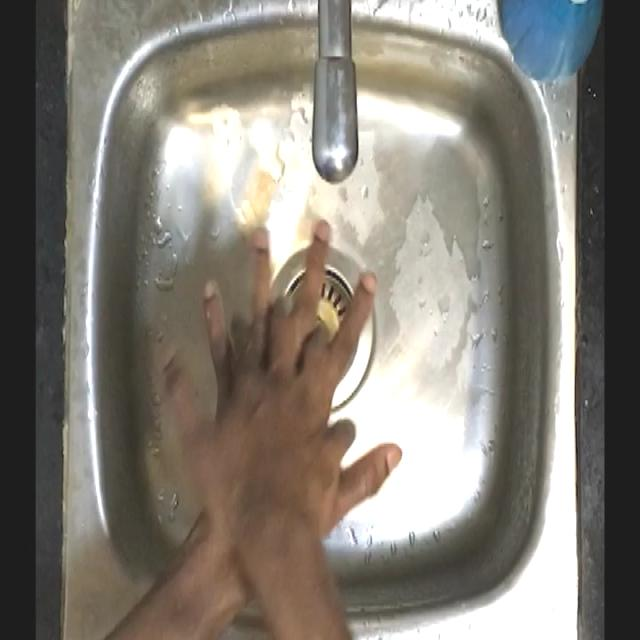step_2: (158, 217, 402, 540)
